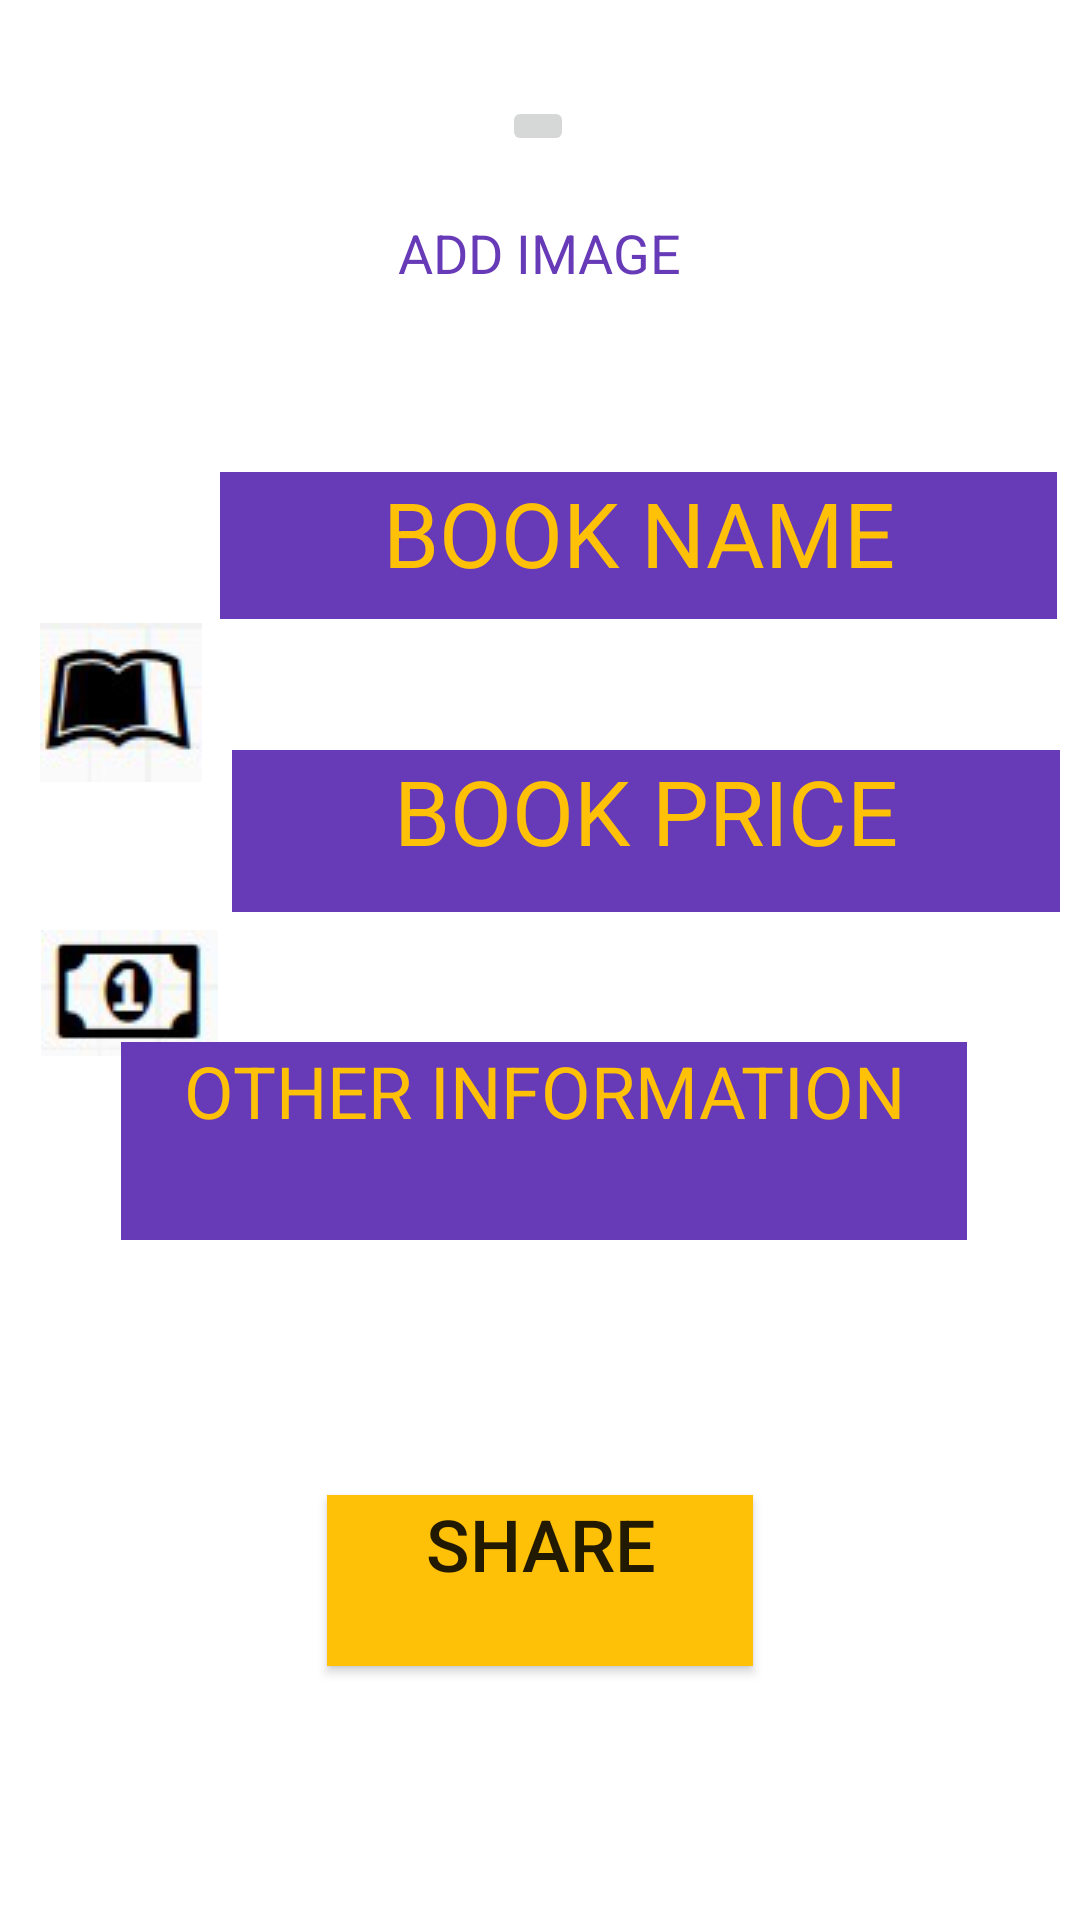

Named icons in this screenshot (1080×1920) and their bounding boxes, Rect(x1, y1, x2, y2):
money: Rect(41, 940, 204, 1039)
